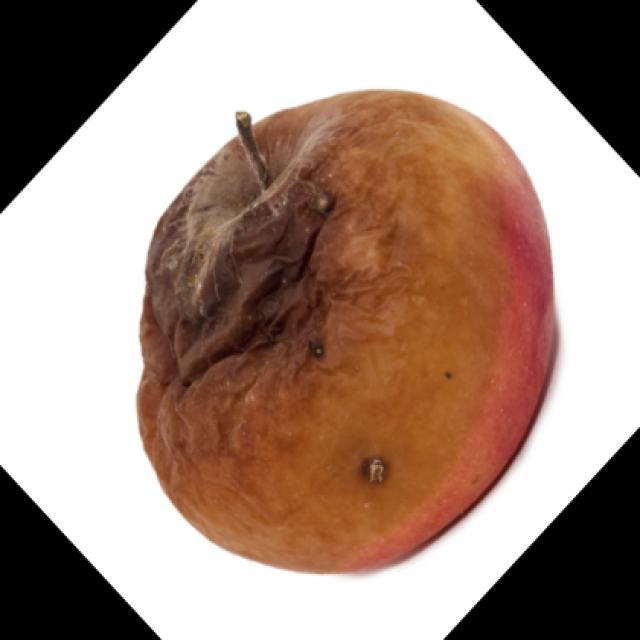Rotten: (133, 85, 564, 578)
